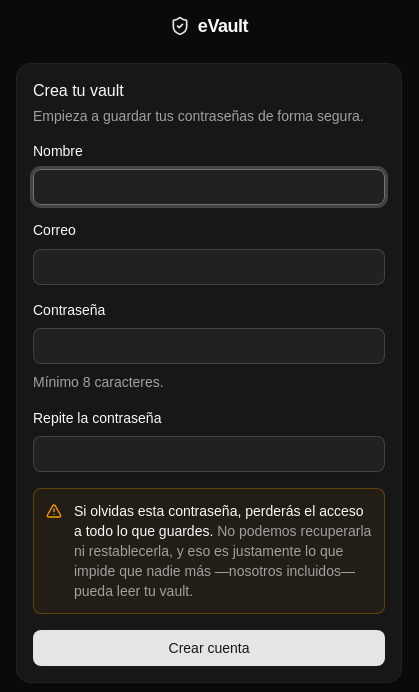
Scenario: the sign-up screen › sends nothing when the fields are empty
Click the button "Crear cuenta".
click(209, 648)  # box [33, 630, 385, 666]
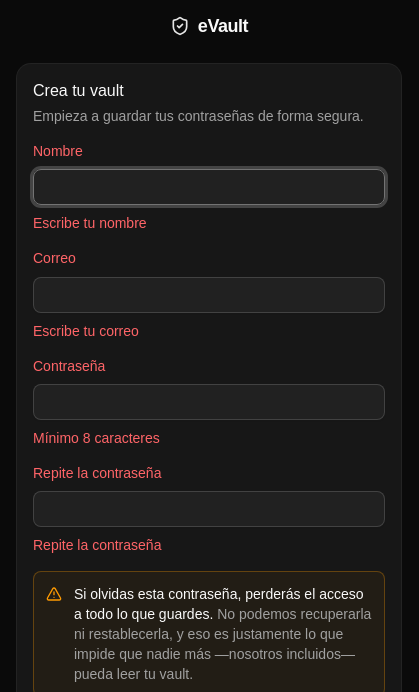
Now the text "Escribe tu nombre" is shown, box [33, 215, 147, 231]
